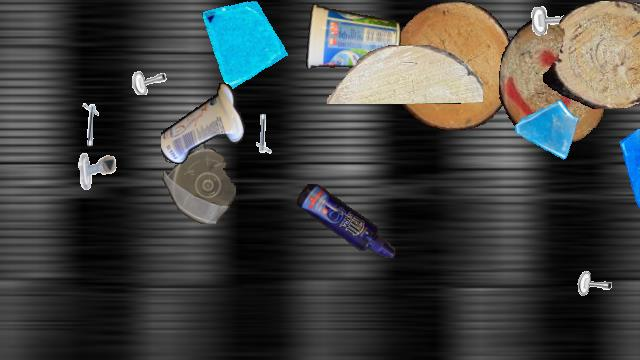glass: (201, 1, 293, 93), (513, 97, 581, 165), (617, 129, 640, 209)
metal: (525, 1, 585, 61), (69, 101, 123, 155), (571, 247, 623, 299), (120, 43, 172, 95), (233, 106, 283, 156), (76, 148, 118, 190)
plastic: (297, 184, 395, 258), (161, 81, 245, 167), (304, 1, 400, 71), (162, 135, 236, 223)
wood: (391, 1, 515, 129), (499, 20, 607, 142), (543, 1, 640, 109), (326, 45, 482, 103)
